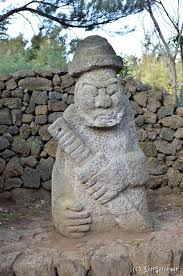Stone Statue: (33, 27, 168, 246)
